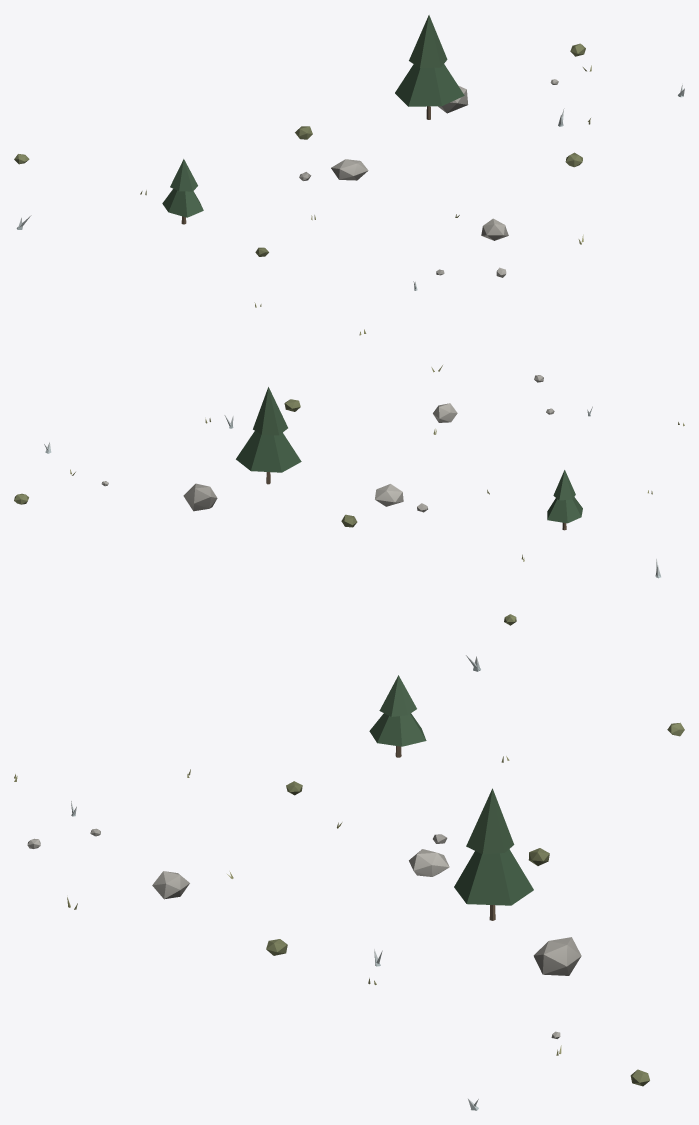
Rendered from coast_land_scatter_c11_24_lod1.glb.
3 renders of one model, top to bottom at view 1: azimuth 30°, elevation 25°; view 2: azimuth 150°, elevation 25°; view 3: azimuth 270°, elevation 25°, orthographic. The views are drawn at different scales.
Parts seen in each view (by area): view 1: coast_land_scatter_c11_24_lod1; view 2: coast_land_scatter_c11_24_lod1; view 3: coast_land_scatter_c11_24_lod1.
Boxes of the visible parts, left/top/right/bottom form: coast_land_scatter_c11_24_lod1: left=14, top=15, right=684, bottom=335; coast_land_scatter_c11_24_lod1: left=14, top=365, right=684, bottom=625; coast_land_scatter_c11_24_lod1: left=14, top=655, right=684, bottom=1110.
Size of the model in its own units: 88.6 by 17.3 by 61.5.
